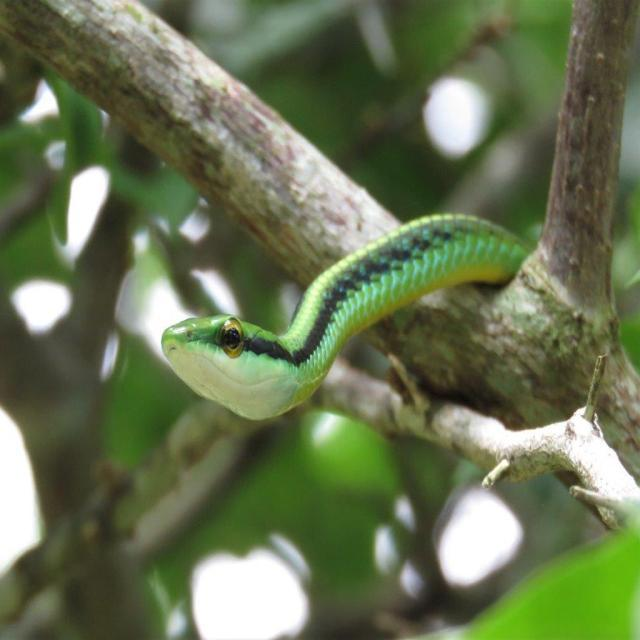Snake: (110, 175, 588, 466)
